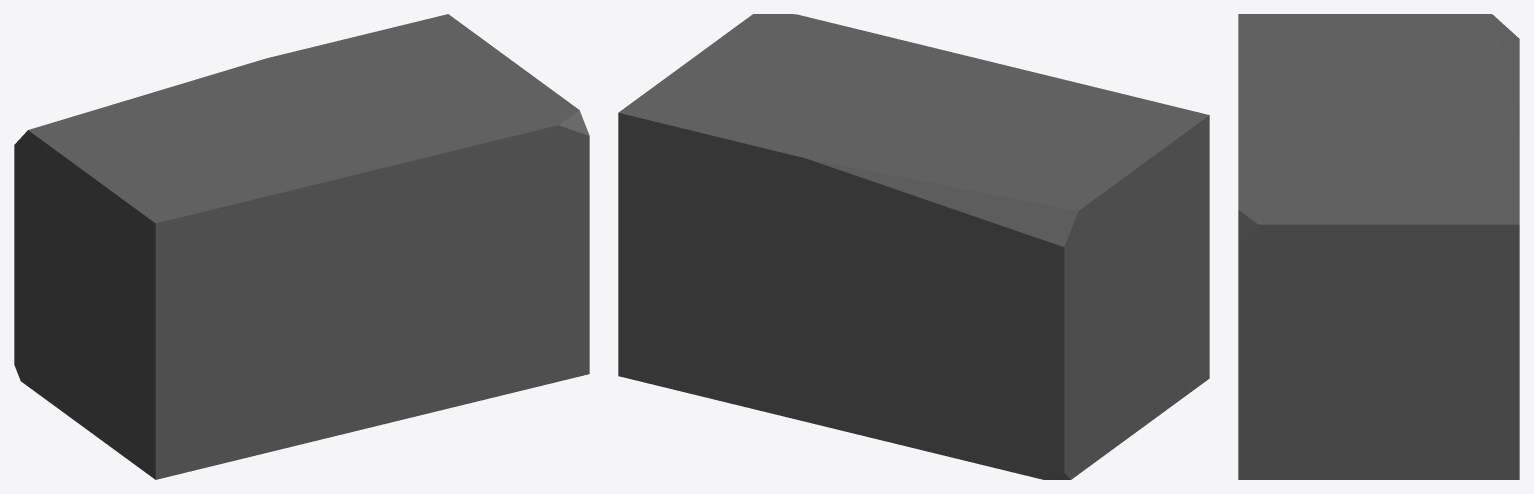
Rendered from Brick_03.fbx.
3 renders of one model, left to right at view 1: azimuth 30°, elevation 25°; view 2: azimuth 150°, elevation 25°; view 3: azimuth 270°, elevation 25°, orthographic. The views are drawn at different scales.
Parts seen in each view (by area): view 1: Brick_03_LOD0; view 2: Brick_03_LOD0; view 3: Brick_03_LOD0.
Boxes of the visible parts, bbox=[...] form: Brick_03_LOD0: bbox=[14, 14, 589, 479]; Brick_03_LOD0: bbox=[618, 14, 1209, 479]; Brick_03_LOD0: bbox=[1238, 14, 1519, 479].
Size of what is drawn, in the model's own units: 0.4264 by 0.2408 by 0.2408.
